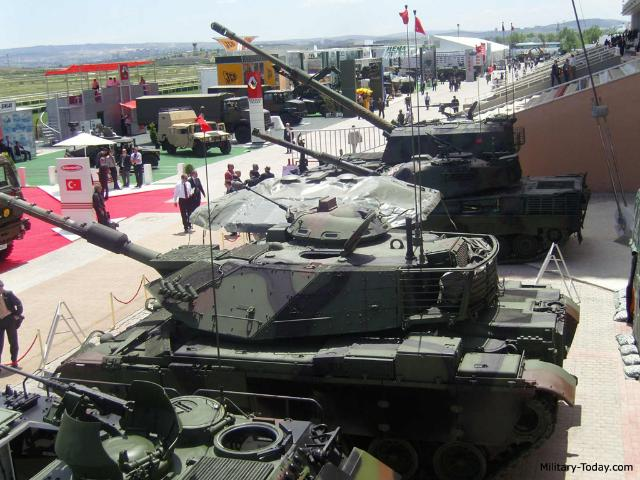other: (0, 276, 24, 366), (89, 177, 111, 235), (172, 176, 192, 226)
tank: (76, 226, 568, 444), (397, 154, 589, 242)
